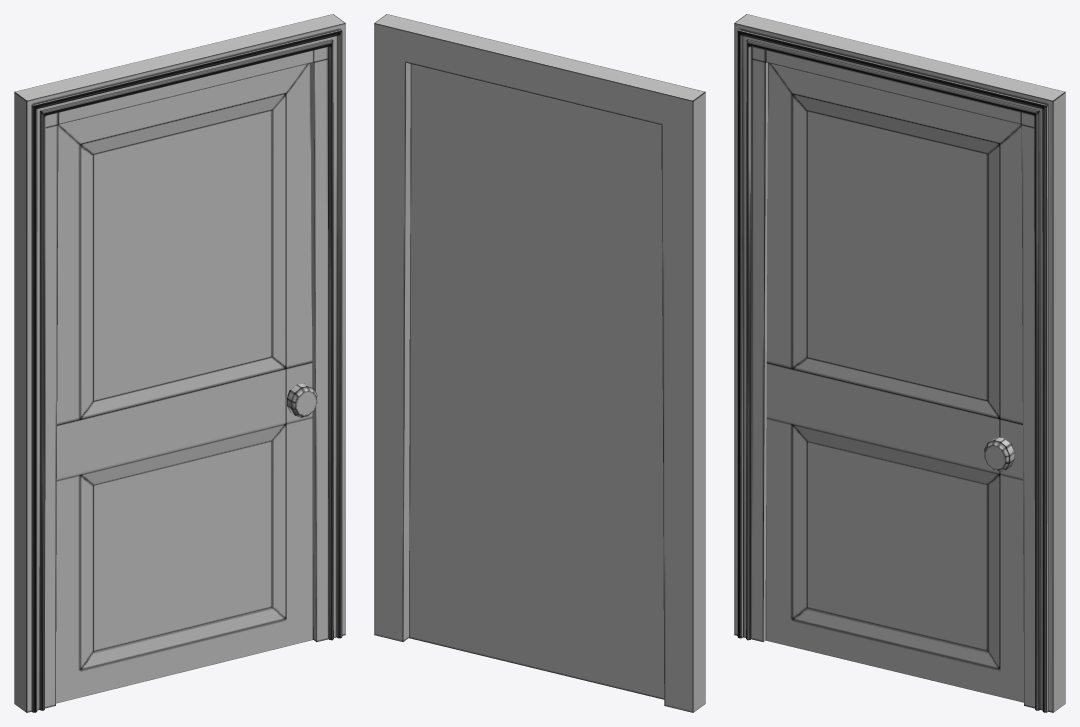
File: Door Model.fbx
3 views of the same model, side by side, from view 1: azimuth 30°, elevation 25°; view 2: azimuth 150°, elevation 25°; view 3: azimuth 330°, elevation 25° (orthographic).
Visible parts, largest first — view 1: door 4.001, door_frame.004, door_knob.004; view 2: door 4.001, door_frame.004; view 3: door 4.001, door_frame.004, door_knob.004.
Part boxes in pixels (x1=…): door 4.001: x1=56, y1=63, x2=313, y2=703; door_frame.004: x1=14, y1=14, x2=345, y2=712; door_knob.004: x1=287, y1=383, x2=317, y2=417; door 4.001: x1=409, y1=64, x2=664, y2=699; door_frame.004: x1=374, y1=14, x2=705, y2=712; door 4.001: x1=765, y1=63, x2=1023, y2=702; door_frame.004: x1=734, y1=14, x2=1065, y2=712; door_knob.004: x1=984, y1=437, x2=1014, y2=471.
Size of the model in its own units: 150 by 275 by 17.82.
1 material, 1 textured.
